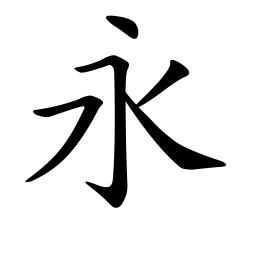D: (104, 13, 142, 41)
HSZ: (105, 53, 131, 82)
Hs: (73, 60, 101, 75)
Ne: (168, 144, 227, 172)
PNc: (128, 93, 150, 118)
PZe: (24, 161, 60, 185)
Ps: (163, 58, 192, 90)
SG: (83, 170, 130, 210)
Sm: (110, 124, 129, 158)
TPZ: (75, 94, 104, 127)
Ts: (31, 105, 61, 119)
